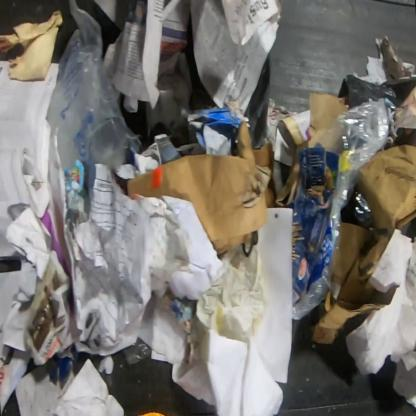cardboard: (126, 120, 272, 258), (311, 222, 398, 346), (274, 92, 350, 209), (292, 142, 338, 304), (357, 144, 416, 237), (180, 99, 251, 155), (253, 141, 277, 208), (44, 342, 80, 380)
soft_plastic: (292, 98, 390, 320), (46, 0, 128, 214), (346, 74, 415, 154)
